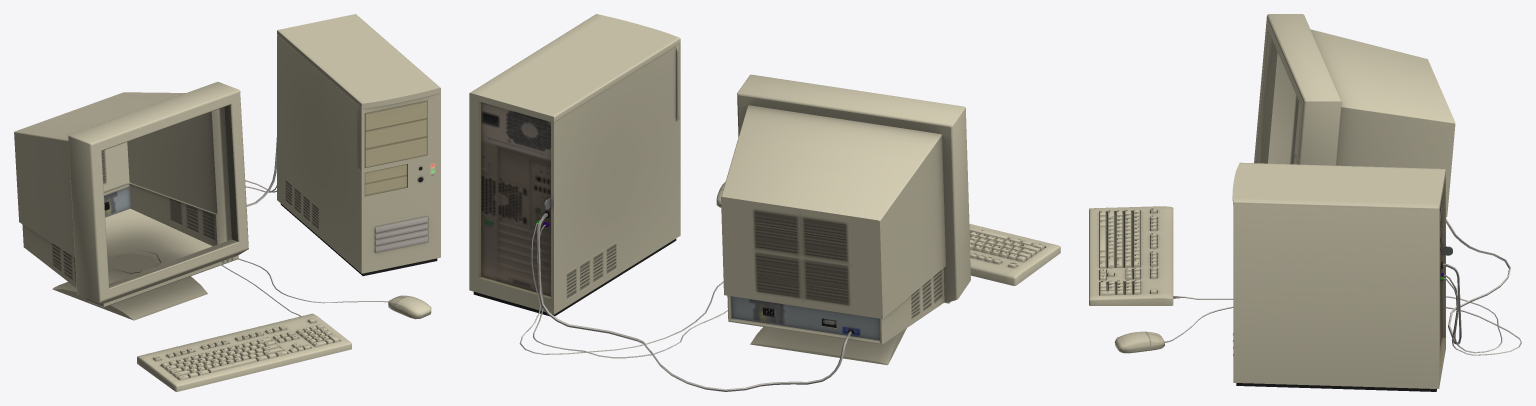
The model's file is computer.glb.
The picture shows the model from 3 angles, left to right: view 1: azimuth 30°, elevation 25°; view 2: azimuth 150°, elevation 25°; view 3: azimuth 270°, elevation 25°; orthographic projection. The views are drawn at different scales.
Parts seen in each view (by area): view 1: retro_computer_setup; view 2: retro_computer_setup; view 3: retro_computer_setup.
Part boxes in pixels (x1,y1,x2,y2): retro_computer_setup: (14,14,440,391); retro_computer_setup: (469,14,1060,391); retro_computer_setup: (1089,14,1521,391).
Bounding box in the file's own units: 96.81 × 49.28 × 96.94.
1 material, 1 textured.
